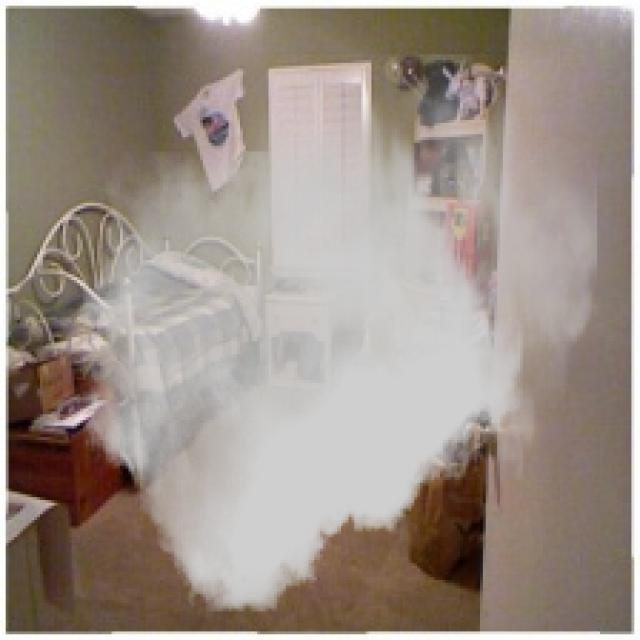smoke: (77, 54, 597, 612)
